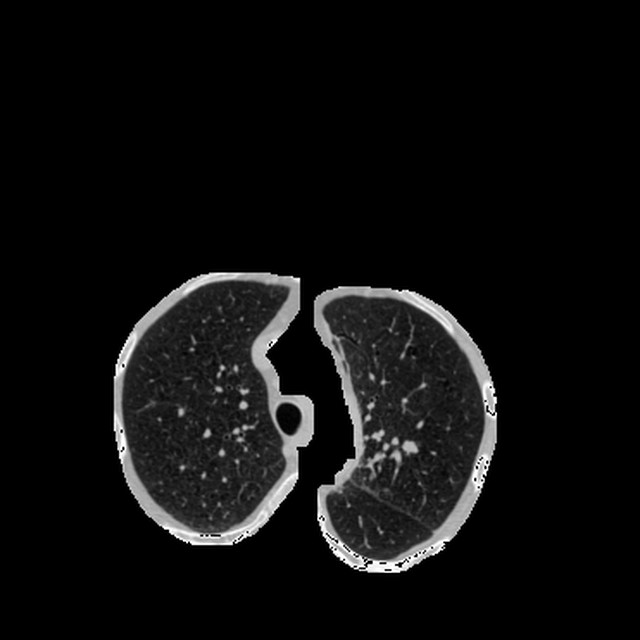PN: (400, 440, 414, 454)
